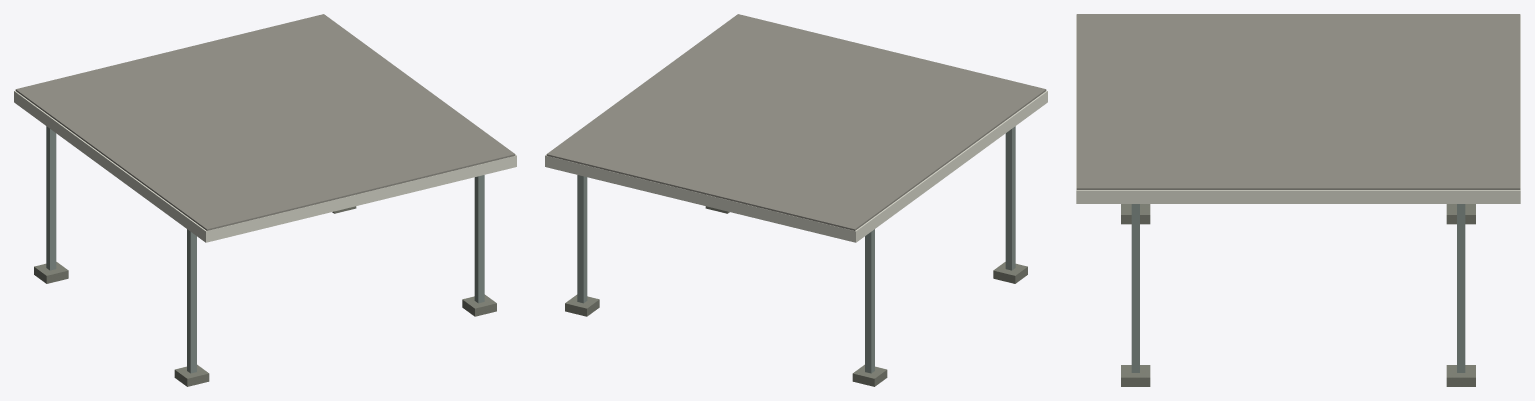
File: control_canopy.glb
The picture shows the model from 3 angles, left to right: view 1: azimuth 30°, elevation 25°; view 2: azimuth 150°, elevation 25°; view 3: azimuth 270°, elevation 25°; orthographic projection. The views are drawn at different scales.
Parts seen in each view (by area): view 1: control_canopy; view 2: control_canopy; view 3: control_canopy.
Boxes of the visible parts, x1,y1,x2,y2 form: control_canopy: [14, 14, 516, 386]; control_canopy: [545, 14, 1047, 386]; control_canopy: [1076, 14, 1520, 386].
Bounding box in the file's own units: 12 × 6.32 × 12.82.
Materials: 4 (1 with a texture image).
